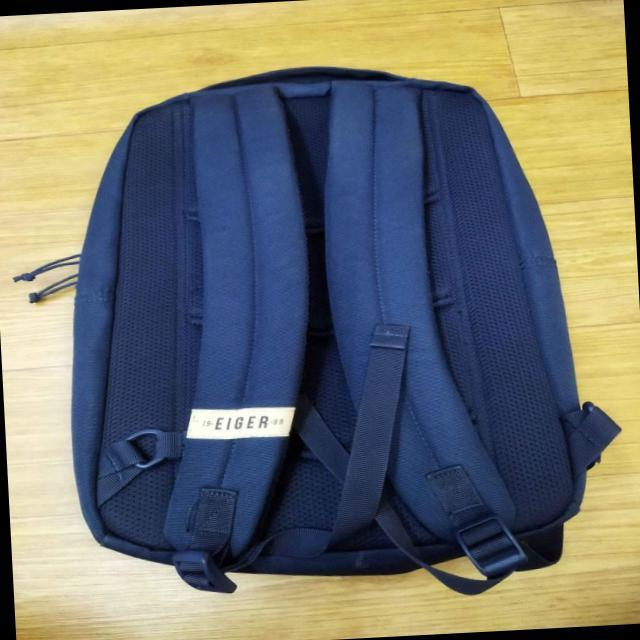bag: (75, 70, 585, 580)
